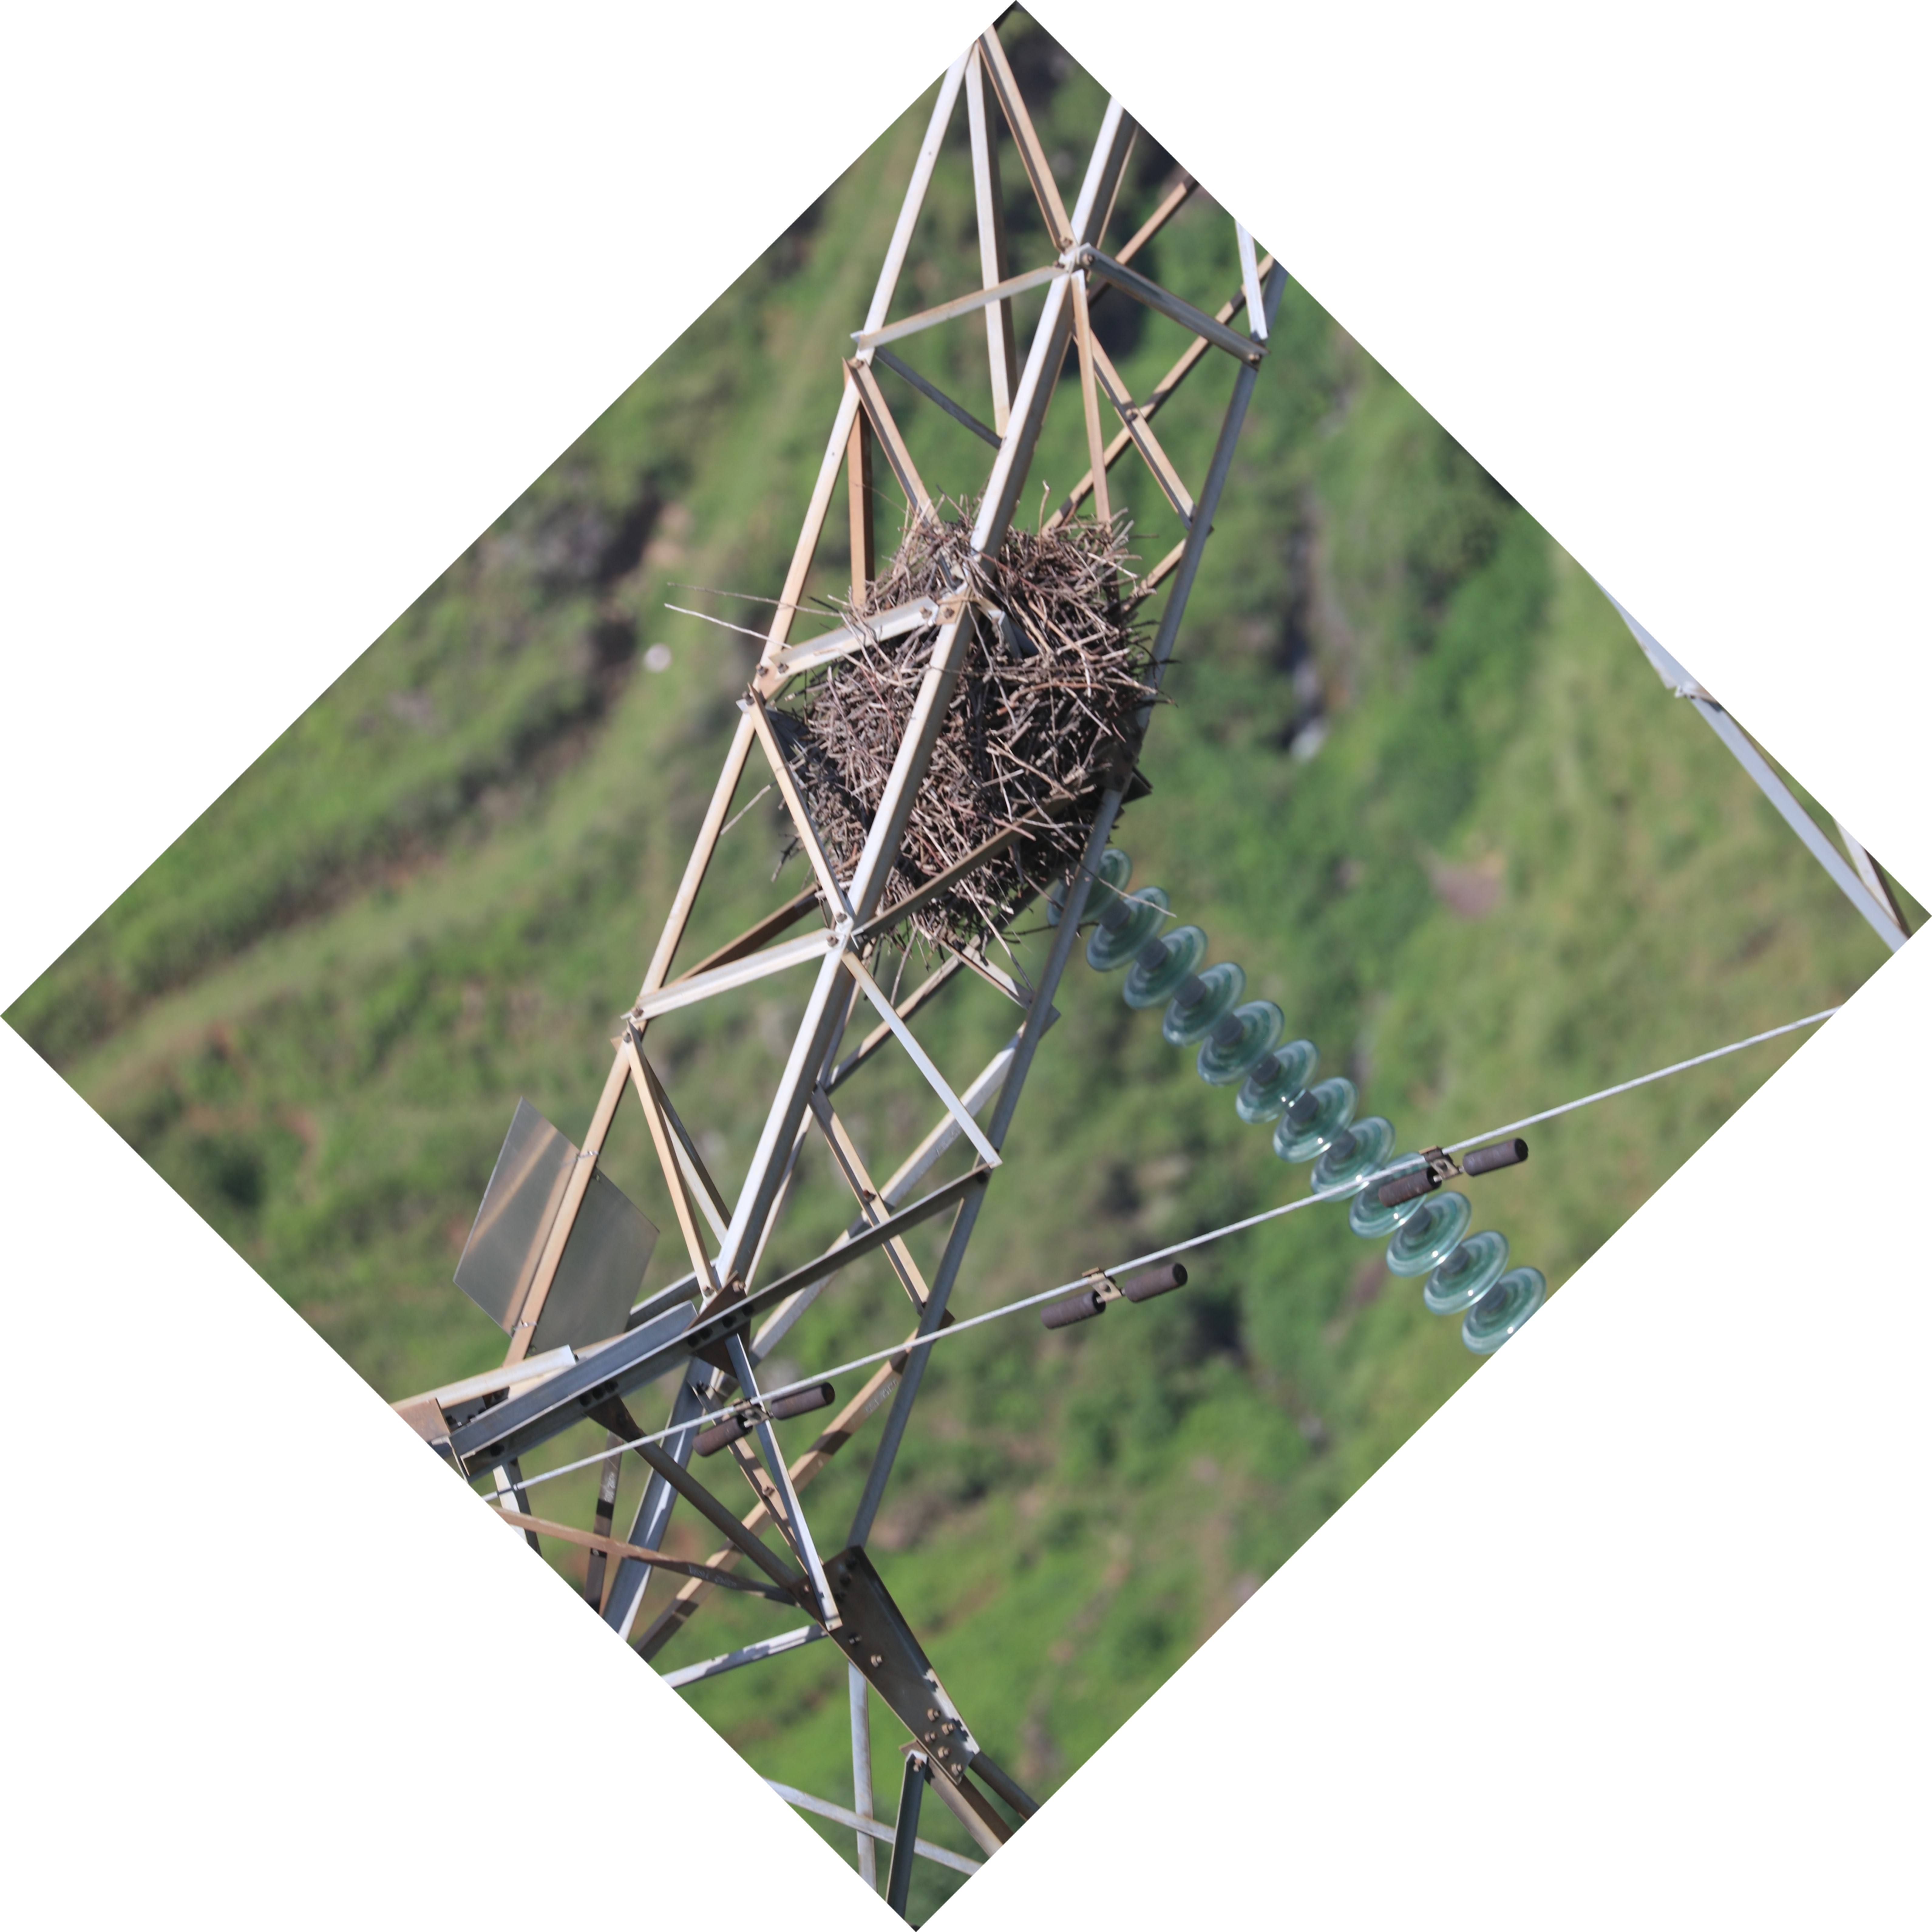niaowo: (736, 490, 1161, 945)
